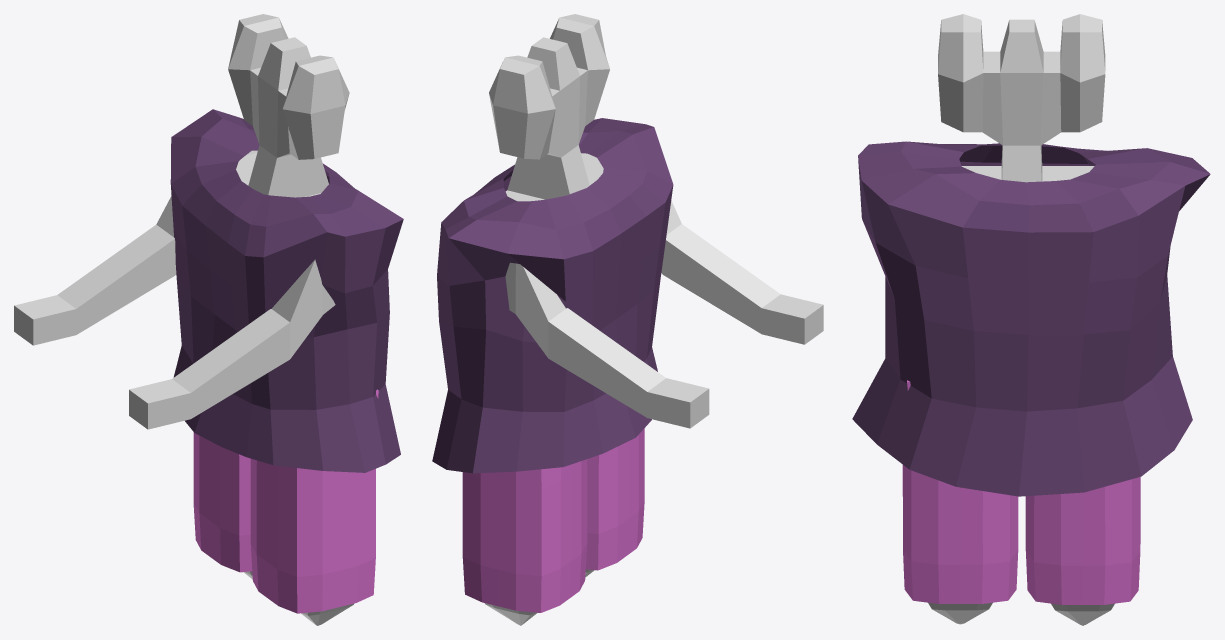
File: Worker.fbx
3 views of the same model, side by side, from view 1: azimuth 30°, elevation 25°; view 2: azimuth 150°, elevation 25°; view 3: azimuth 270°, elevation 25° (orthographic). The views are drawn at different scales.
Parts seen in each view (by area): view 1: Cube.001, Cube, Cube.002; view 2: Cube.001, Cube, Cube.002; view 3: Cube.001, Cube.002, Cube.
Part boxes in pixels (x1,y1,x2,y2): Cube.001: (170,109,403,472); Cube: (14,14,354,625); Cube.002: (193,389,378,613); Cube.001: (432,118,673,473); Cube: (484,14,823,625); Cube.002: (462,428,644,612); Cube.001: (852,141,1210,496); Cube.002: (902,380,1140,604); Cube: (928,14,1114,625).
Bounding box in the file's own units: 889 × 1634 × 881.
